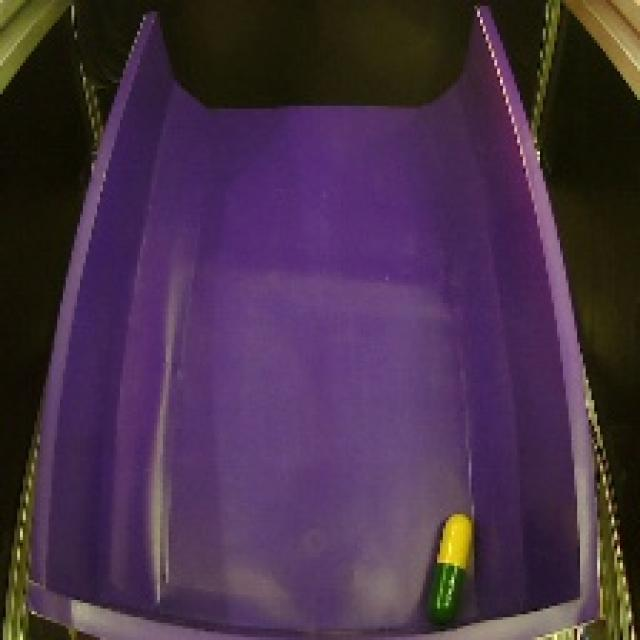small: (418, 509, 480, 623)
